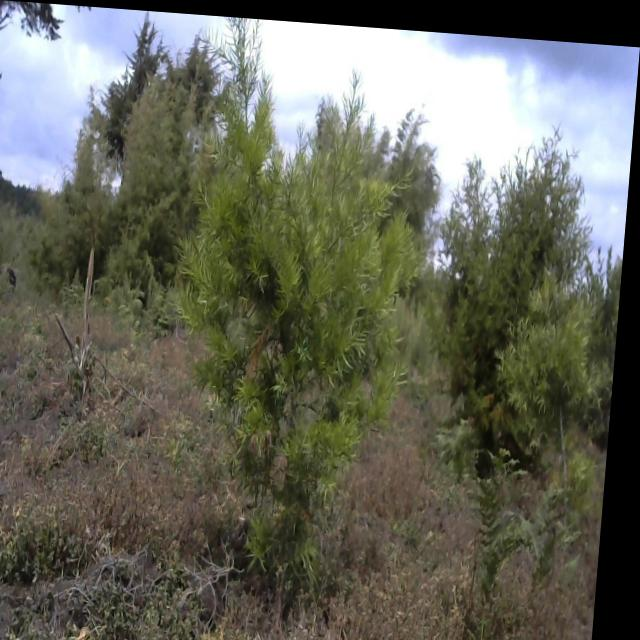Podocarpus falcatus: (196, 98, 429, 546), (491, 294, 599, 469)
cedrus: (437, 121, 586, 452), (65, 95, 209, 297)
